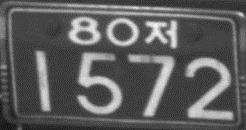0: (105, 17, 140, 47)
1: (26, 49, 63, 112)
2: (184, 55, 234, 121)
5: (75, 51, 123, 115)
7: (126, 52, 175, 117)
8: (67, 15, 101, 45)
저: (144, 19, 179, 49)
